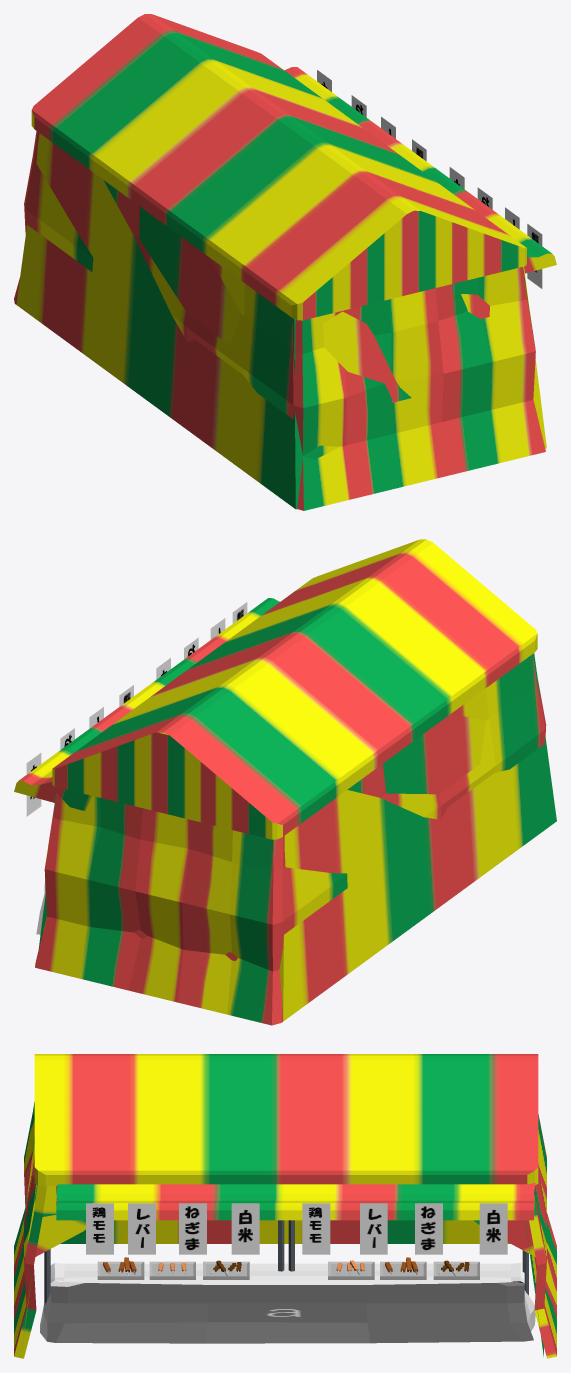
Rendered from rowtentyakitori2.fbx.
The picture shows the model from 3 angles, top to bottom: view 1: azimuth 30°, elevation 25°; view 2: azimuth 150°, elevation 25°; view 3: azimuth 270°, elevation 25°; orthographic projection. The views are drawn at different scales.
Visible parts, largest first — view 1: 立方体, 立方体.001, 立方体.003, Cube.001; view 2: 立方体, 立方体.001, 立方体.003, Cube.001; view 3: 立方体, 立方体.002, 立方体.001, Cube.001, 平面.003, 平面.004, 平面.007, 平面, 平面.001, 平面.002, 平面.005, 平面.006 (+8 smaller).
Part boxes in pixels (bbox=[...]): 立方体: bbox=[31, 14, 526, 320]; 立方体.001: bbox=[14, 131, 545, 510]; 立方体.003: bbox=[16, 133, 546, 509]; Cube.001: bbox=[284, 67, 556, 273]; 立方体: bbox=[52, 539, 537, 839]; 立方体.001: bbox=[35, 654, 546, 1025]; 立方体.003: bbox=[38, 653, 556, 1021]; Cube.001: bbox=[14, 598, 279, 811]; 立方体: bbox=[34, 1054, 538, 1186]; 立方体.002: bbox=[40, 1263, 535, 1343]; 立方体.001: bbox=[14, 1101, 556, 1358]; Cube.001: bbox=[56, 1183, 535, 1220]; 平面.003: bbox=[231, 1203, 259, 1254]; 平面.004: bbox=[302, 1203, 330, 1254]; 平面.007: bbox=[479, 1203, 507, 1254]; 平面: bbox=[86, 1203, 113, 1254]; 平面.001: bbox=[128, 1203, 155, 1254]; 平面.002: bbox=[179, 1203, 206, 1254]; 平面.005: bbox=[360, 1203, 387, 1254]; 平面.006: bbox=[415, 1203, 442, 1254].
Bounding box in the file's own units: 242 × 215 × 431.
5 materials, 5 textured.
